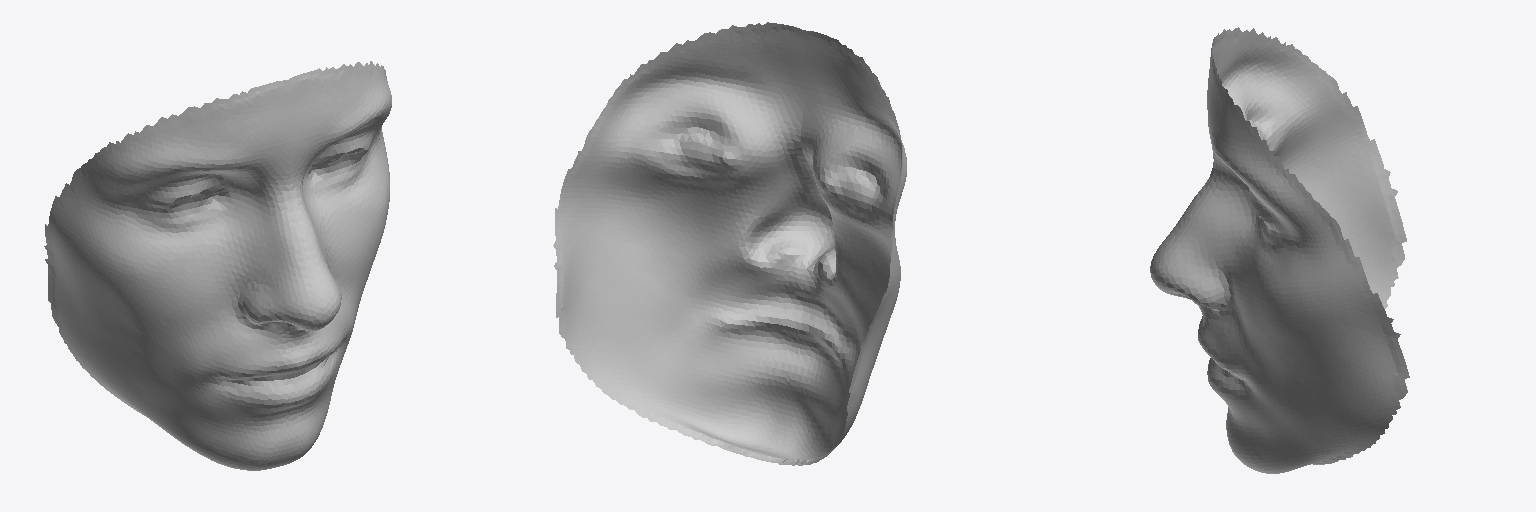
The model's file is SIMPOP_26.obj.
3 renders of one model, left to right at view 1: azimuth 30°, elevation 25°; view 2: azimuth 150°, elevation 25°; view 3: azimuth 270°, elevation 25°, orthographic.
Visible parts, largest first — view 1: SIMPOP_26; view 2: SIMPOP_26; view 3: SIMPOP_26.
Part boxes in pixels (bbox=[...]): SIMPOP_26: bbox=[44, 61, 391, 470]; SIMPOP_26: bbox=[553, 22, 906, 465]; SIMPOP_26: bbox=[1150, 27, 1409, 473].
Size of the model in its own units: 121 by 143 by 83.03.